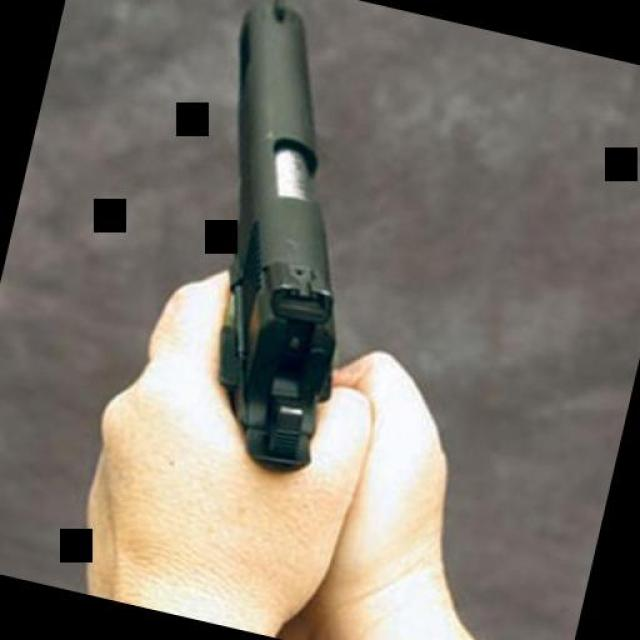gun: (127, 0, 412, 482)
